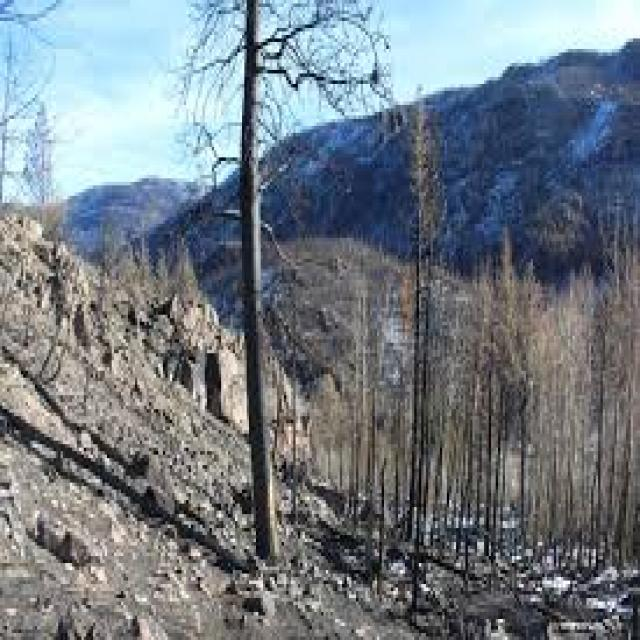Forest Fire: (56, 203, 507, 640)
